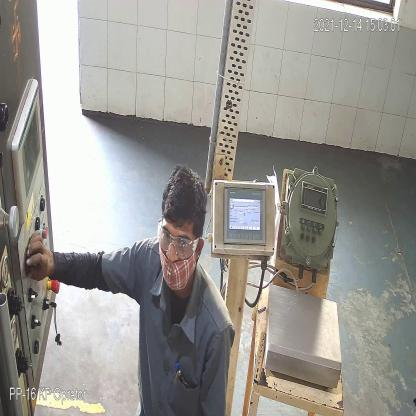goggles: (157, 228, 204, 258)
